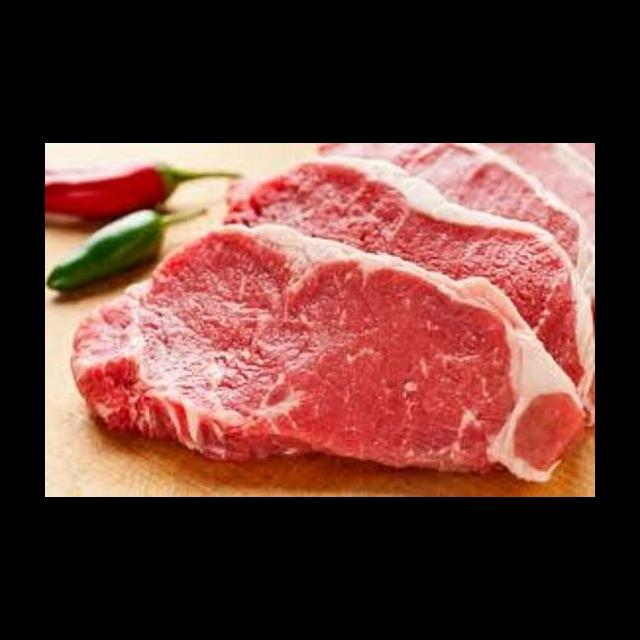beef: (62, 218, 595, 491)
